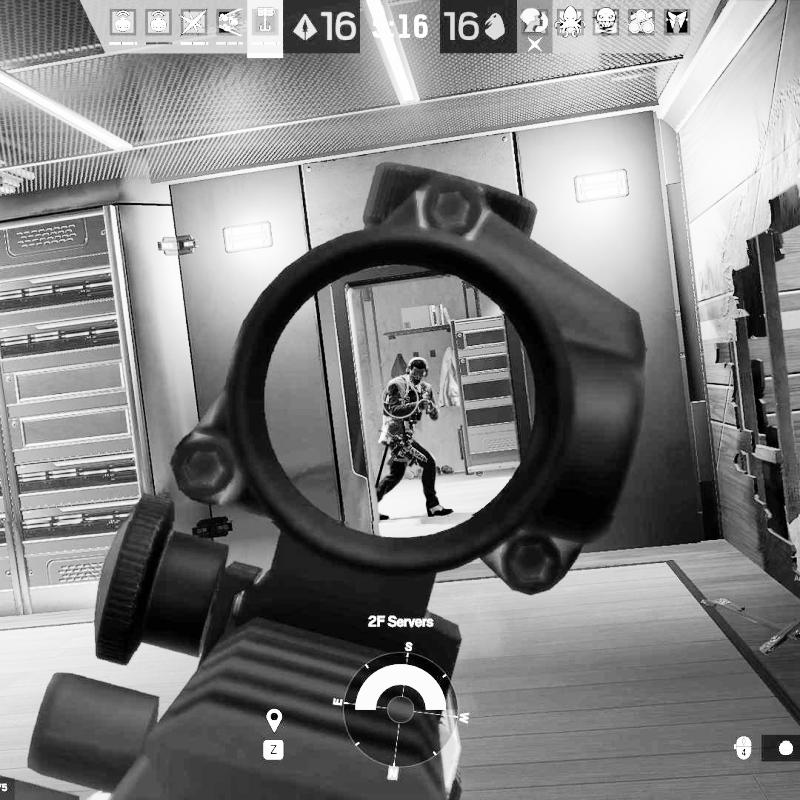Character: (375, 356, 455, 522)
Head: (406, 356, 430, 384)
